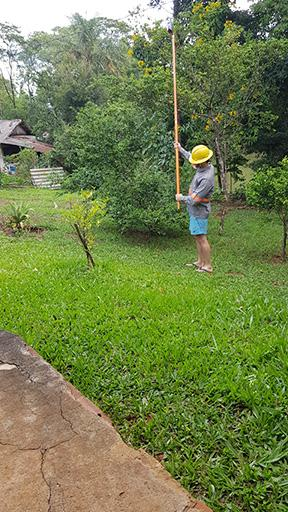Capacete: (189, 144, 213, 169)
Detector_Tensao_Contato: (167, 16, 175, 37)
Vara_Manobra: (171, 33, 181, 211)
